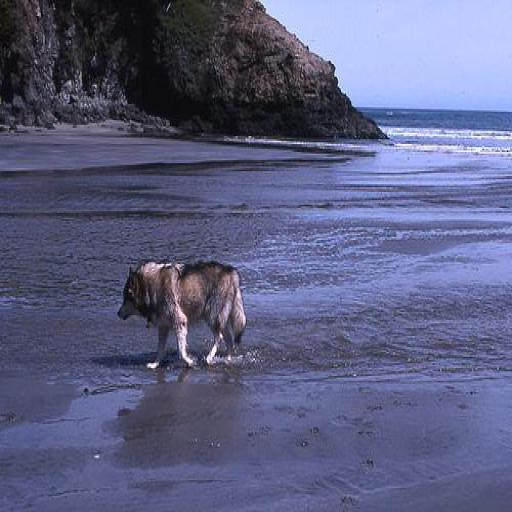dog_face: (115, 266, 145, 332)
